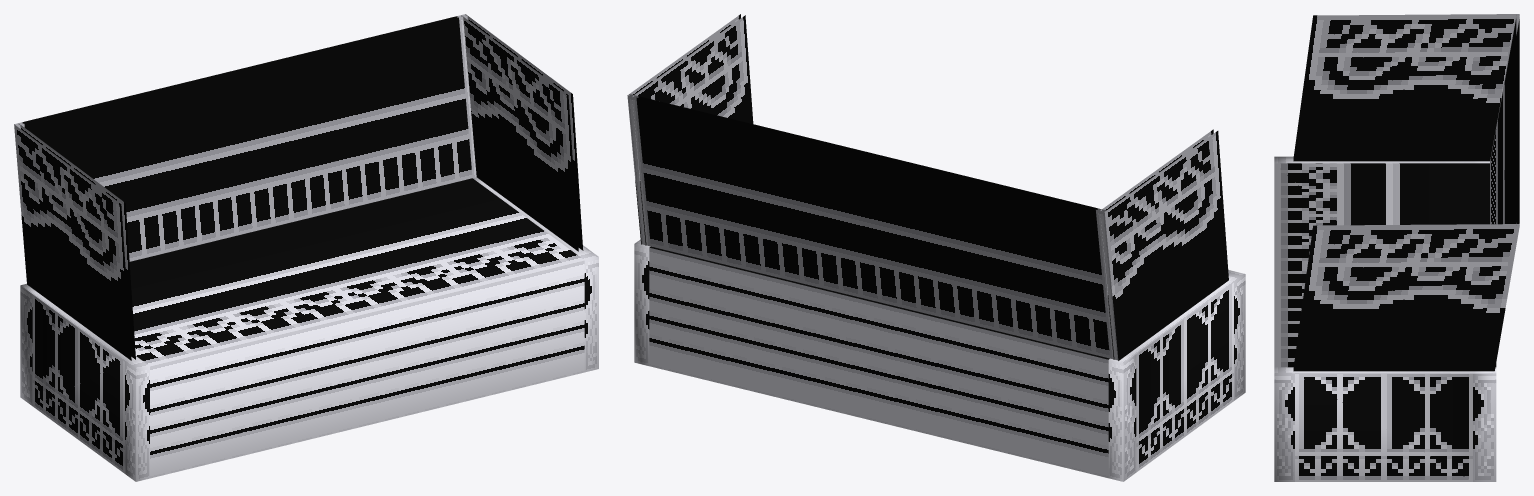
The picture shows the model from 3 angles, left to right: view 1: azimuth 30°, elevation 25°; view 2: azimuth 150°, elevation 25°; view 3: azimuth 270°, elevation 25°; orthographic projection. The views are drawn at different scales.
Parts seen in each view (by area): view 1: 3431IMIG20_30; view 2: 3431IMIG20_30; view 3: 3431IMIG20_30.
Boxes of the visible parts, x1=… form: 3431IMIG20_30: x1=14, y1=14, x2=598, y2=481; 3431IMIG20_30: x1=627, y1=14, x2=1245, y2=481; 3431IMIG20_30: x1=1274, y1=14, x2=1519, y2=481.
Bounding box in the file's own units: 1.9 × 1.03 × 0.9065.
Materials: 4 (4 with a texture image).
